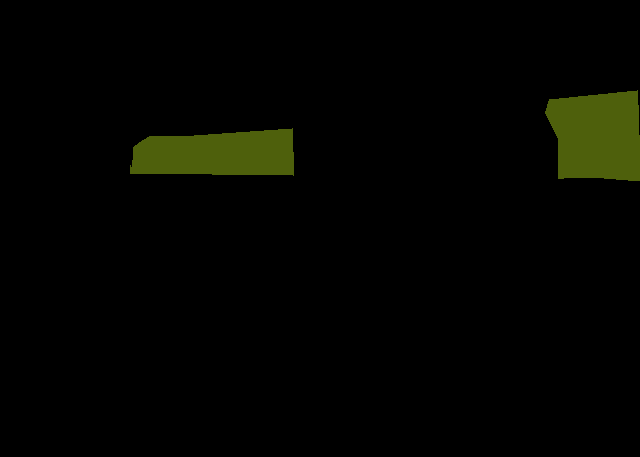Train: (545, 90, 640, 182), (130, 128, 294, 176)
